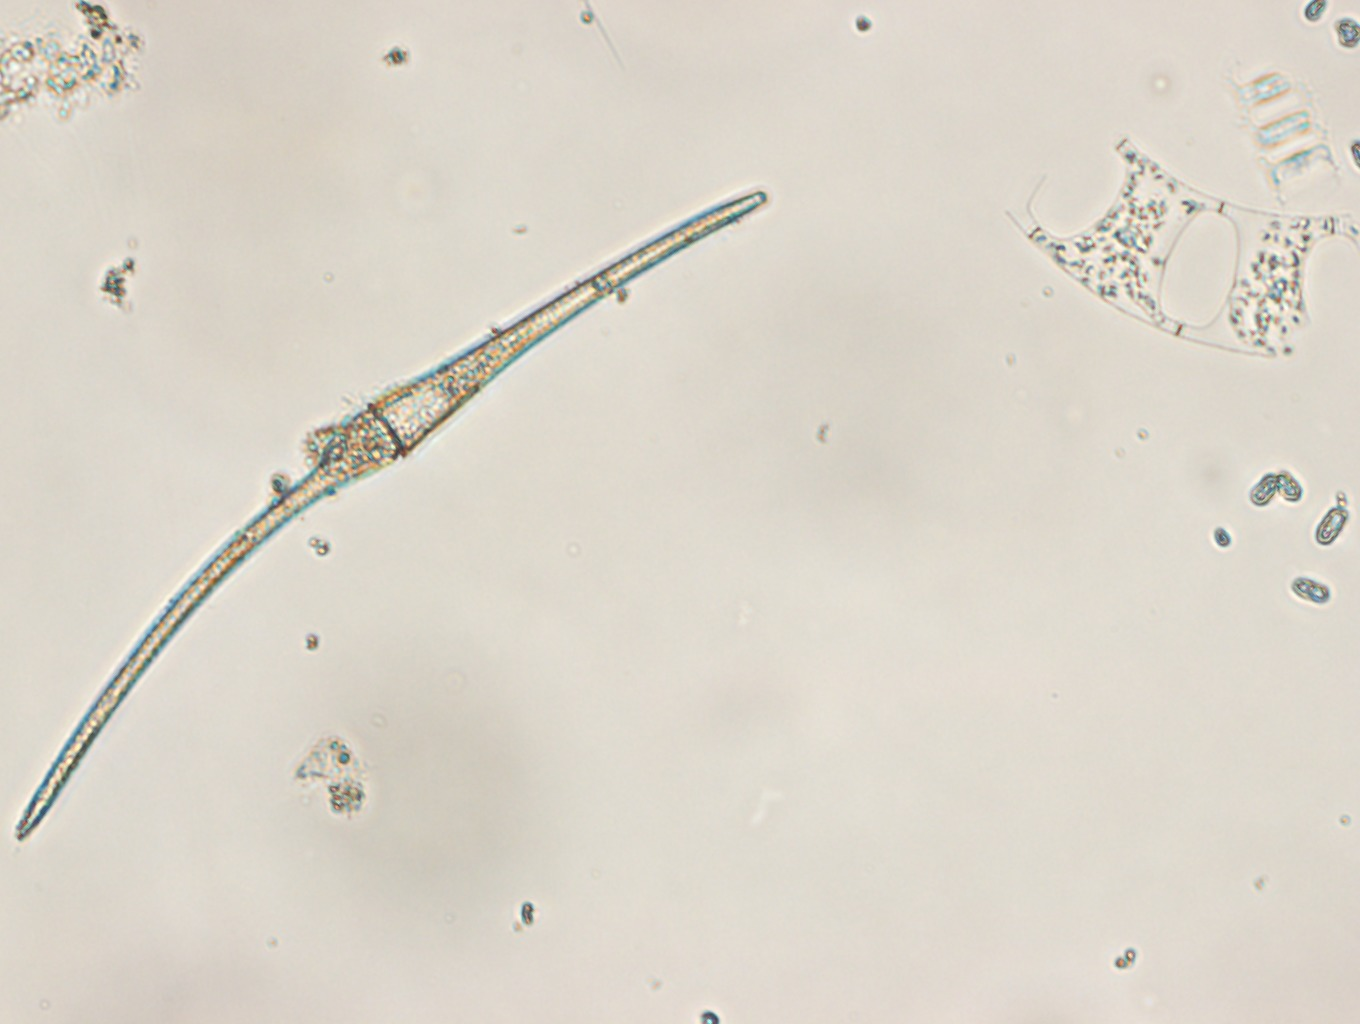ceratium fusus: (12, 191, 768, 842)
eucampia: (977, 140, 1347, 352)
